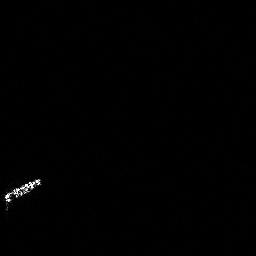ship: (4, 177, 42, 212)
